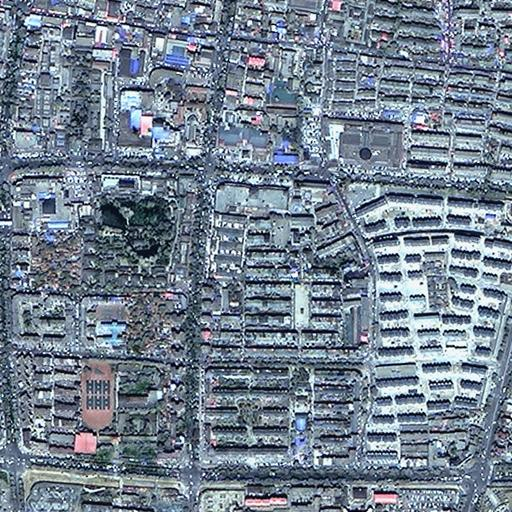school: (73, 357, 157, 459), (77, 294, 129, 350)
